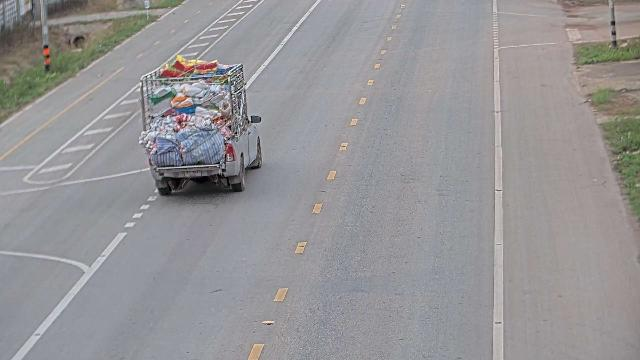pickup-truck: (138, 54, 263, 196)
